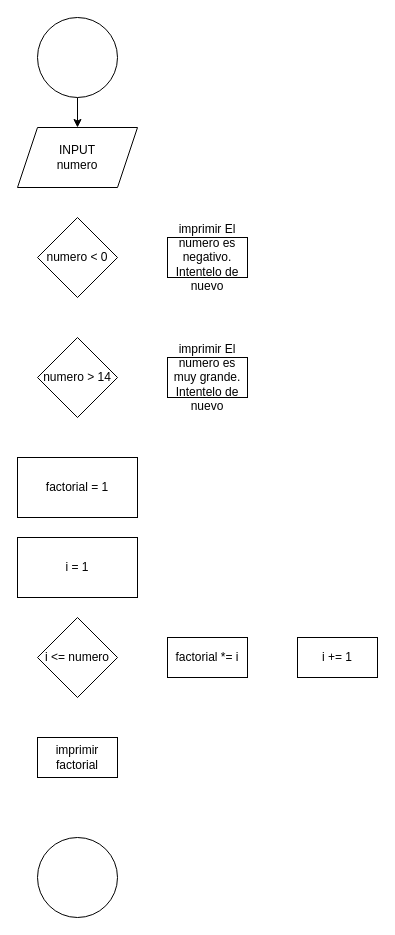
Image size: 395x935. Some labels were removed from this diagram. Each missing label, with the centre of its shape:
FIN: (77,877)
INICIO: (77,57)
